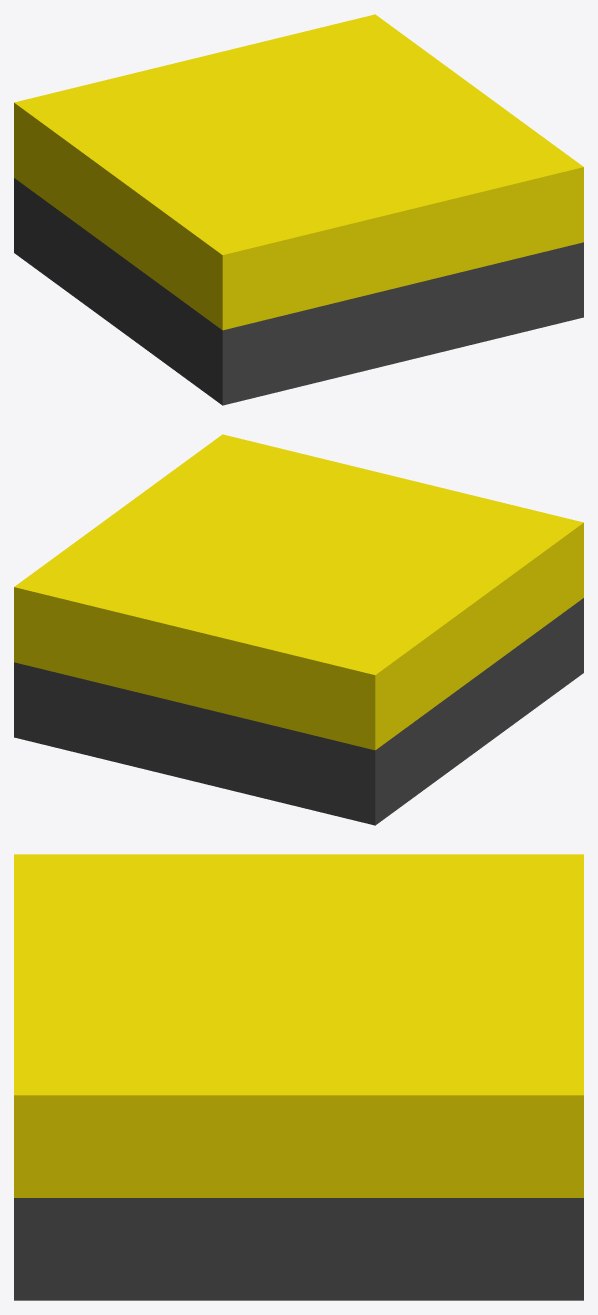
The model's file is Biome_Urban_HD.glb.
3 views of the same model, one above another, from view 1: azimuth 30°, elevation 25°; view 2: azimuth 150°, elevation 25°; view 3: azimuth 270°, elevation 25° (orthographic). The views are drawn at different scales.
Visible parts, largest first — view 1: Cube; view 2: Cube; view 3: Cube.
Part boxes in pixels (left/top/right/bottom): Cube: left=14, top=14, right=583, bottom=405; Cube: left=14, top=434, right=583, bottom=825; Cube: left=14, top=854, right=583, bottom=1300.
Size of the model in its own units: 2.58 by 1.03 by 2.58.
